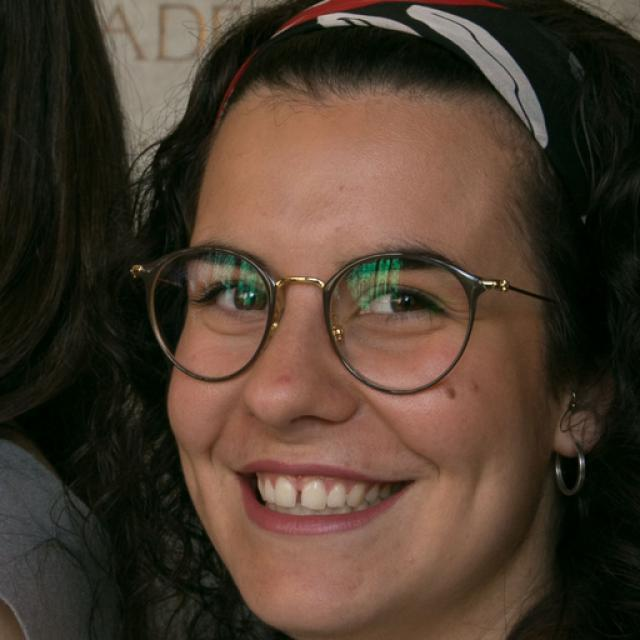happy: (161, 79, 554, 629)
